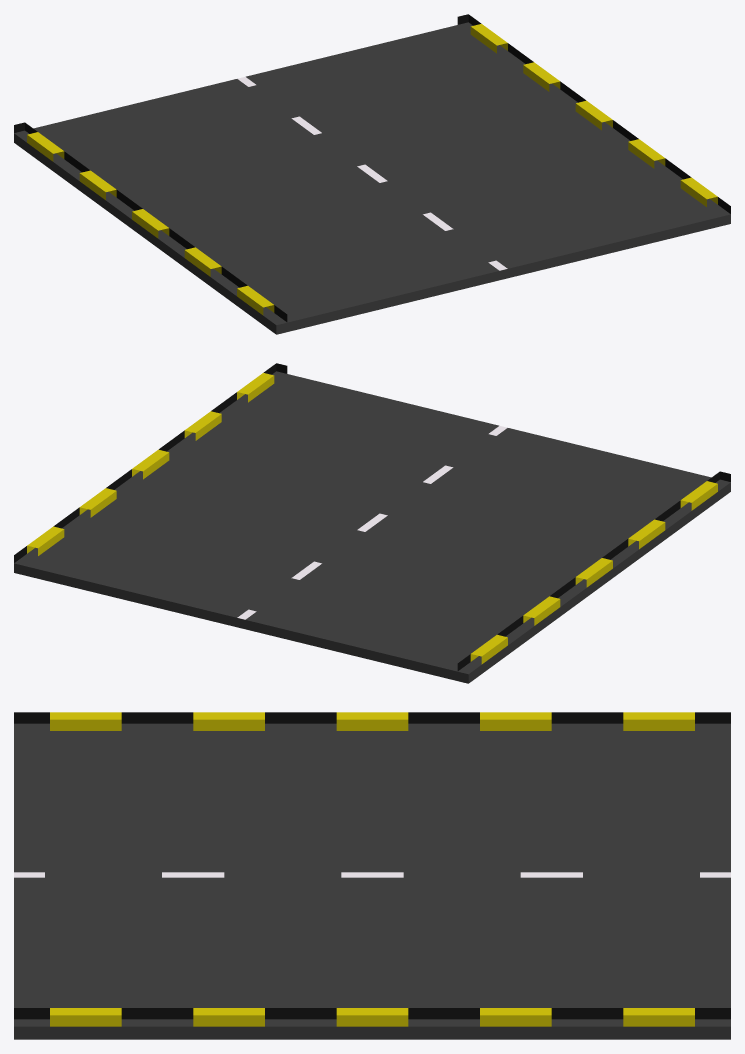
File: straight.glb
3 renders of one model, top to bottom at view 1: azimuth 30°, elevation 25°; view 2: azimuth 150°, elevation 25°; view 3: azimuth 270°, elevation 25°, orthographic. The views are drawn at different scales.
Parts seen in each view (by area): view 1: Straight; view 2: Straight; view 3: Straight.
Part boxes in pixels (left/top/right/bottom): Straight: left=14, top=14, right=730, bottom=334; Straight: left=14, top=363, right=730, bottom=683; Straight: left=14, top=712, right=730, bottom=1039.
Size of the model in its own units: 2 by 0.0741 by 2.
